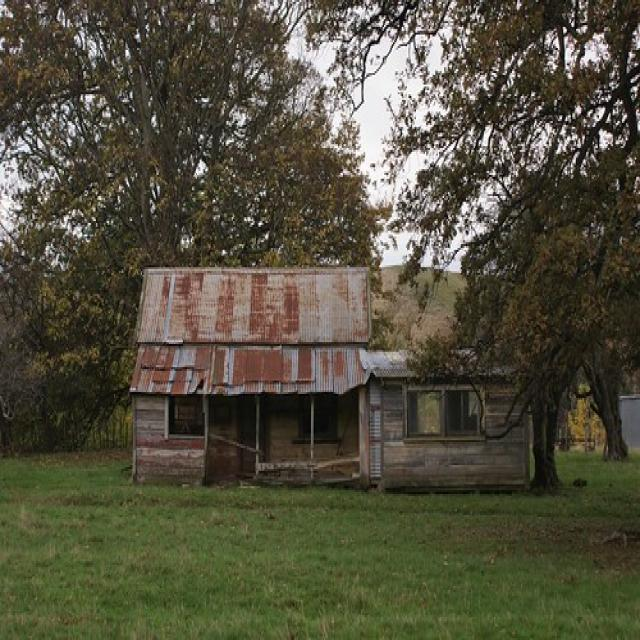Normal_building: (128, 262, 536, 495)
